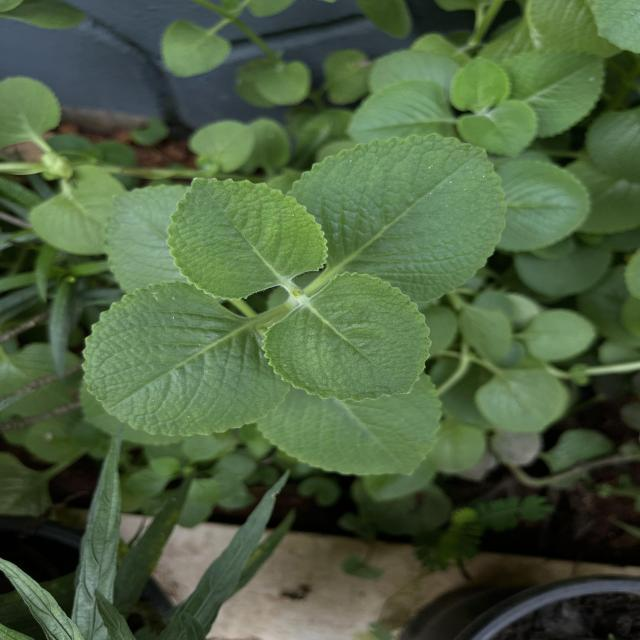Plectranthus barbatus: (284, 133, 508, 304), (79, 279, 293, 438), (260, 270, 434, 404), (165, 176, 332, 302), (257, 394, 445, 476)
